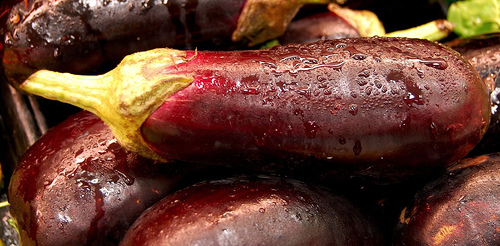eggplant: (17, 32, 491, 175)
